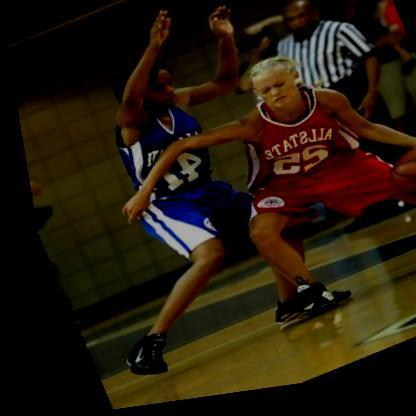basketball: (371, 146, 416, 218)
